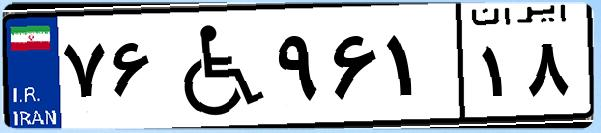1: (385, 28, 445, 110), (475, 38, 525, 113)
6: (330, 28, 385, 110), (110, 28, 158, 98)
7: (57, 26, 110, 100)
8: (525, 38, 570, 115)
9: (270, 28, 330, 110)
ژ (معلولین و جانبازان): (158, 12, 270, 120)
